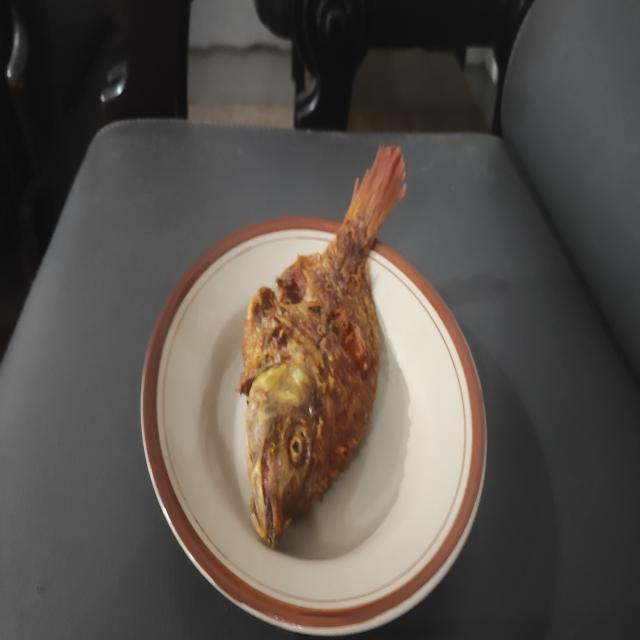ikan_mujair: (239, 146, 406, 547)
